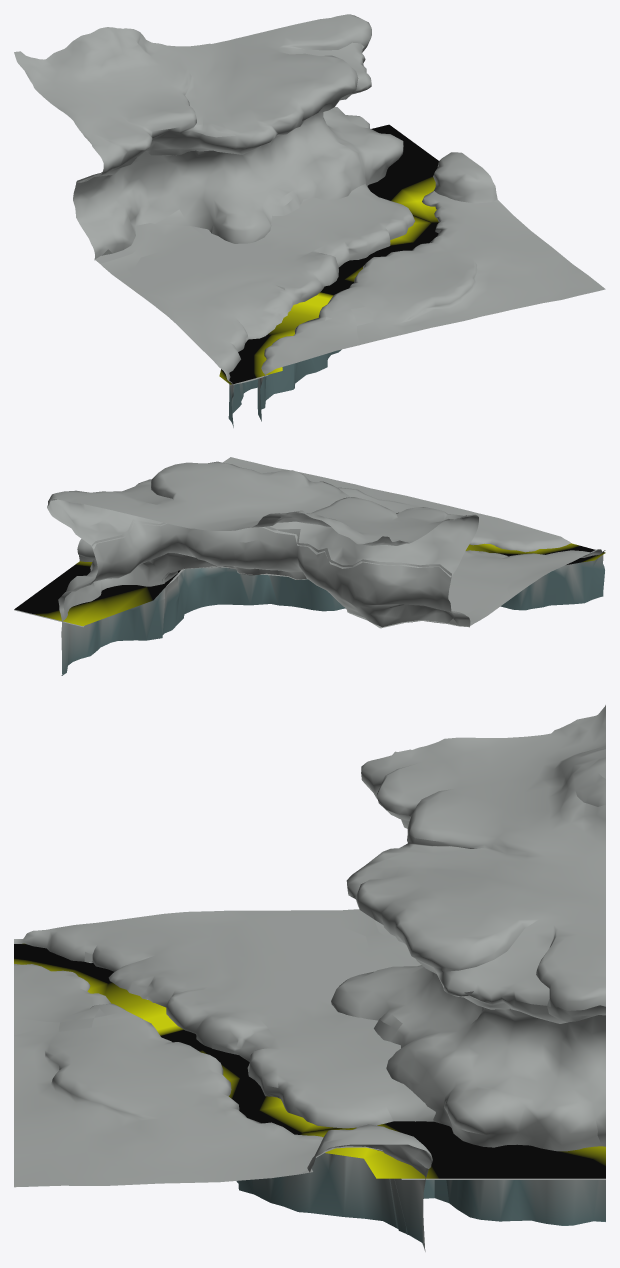
3 renders of one model, top to bottom at view 1: azimuth 30°, elevation 25°; view 2: azimuth 150°, elevation 25°; view 3: azimuth 270°, elevation 25°, orthographic. The views are drawn at different scales.
Visible parts, largest first — view 1: G:\FFXIV-MapTools\exports\w1f1\bg\ffxiv\wil_w1\fld\w1f1\bgpl (×10); view 2: G:\FFXIV-MapTools\exports\w1f1\bg\ffxiv\wil_w1\fld\w1f1\bgpl (×11); view 3: G:\FFXIV-MapTools\exports\w1f1\bg\ffxiv\wil_w1\fld\w1f1\bgpl (×11).
Boxes of the visible parts, x1,y1,x2,y2 form: G:\FFXIV-MapTools\exports\w1f1\bg\ffxiv\wil_w1\fld\w1f1\bgpl (×10): (14,14,605,427); G:\FFXIV-MapTools\exports\w1f1\bg\ffxiv\wil_w1\fld\w1f1\bgpl (×11): (14,457,605,675); G:\FFXIV-MapTools\exports\w1f1\bg\ffxiv\wil_w1\fld\w1f1\bgpl (×11): (14,705,605,1251).
Size of the model in its own units: 128 by 72.16 by 128.
